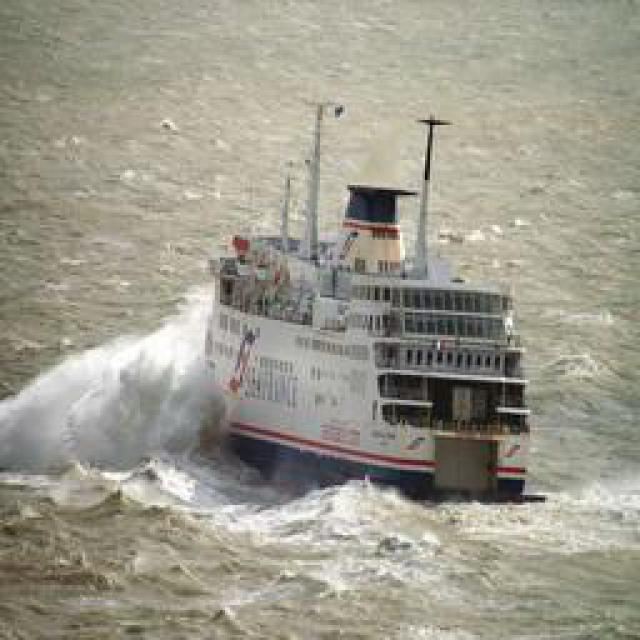Ship: (128, 120, 533, 503)
